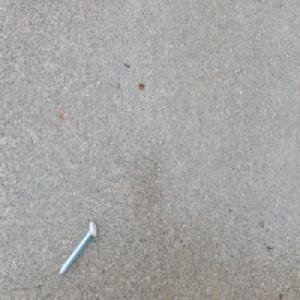Nail: (57, 219, 98, 277)
